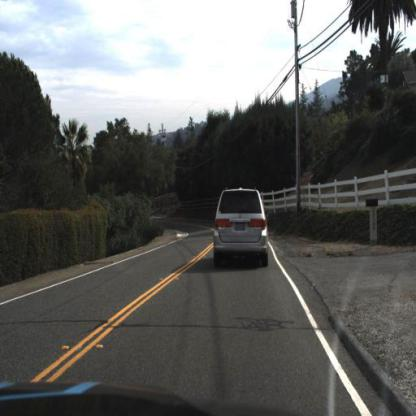car: (212, 185, 272, 270)
